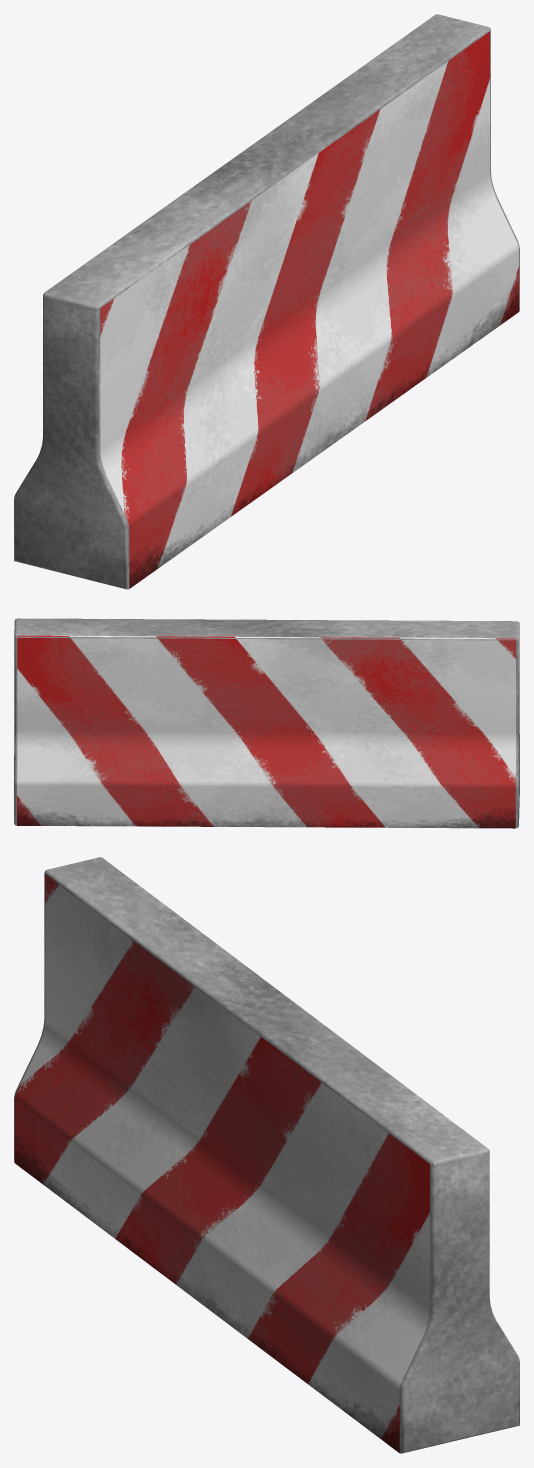
The model's file is obsta9.fbx.
3 renders of one model, top to bottom at view 1: azimuth 30°, elevation 25°; view 2: azimuth 150°, elevation 25°; view 3: azimuth 270°, elevation 25°, orthographic. The views are drawn at different scales.
Parts seen in each view (by area): view 1: Barrier_Concrete_LOD_0; view 2: Barrier_Concrete_LOD_0; view 3: Barrier_Concrete_LOD_0.
Part boxes in pixels (x1,y1,x2,y2): Barrier_Concrete_LOD_0: [14, 14, 519, 589]; Barrier_Concrete_LOD_0: [14, 618, 519, 828]; Barrier_Concrete_LOD_0: [14, 857, 519, 1453].
Size of the model in its own units: 1.73 by 0.7149 by 1.15.
Materials: 2 (2 with a texture image).
